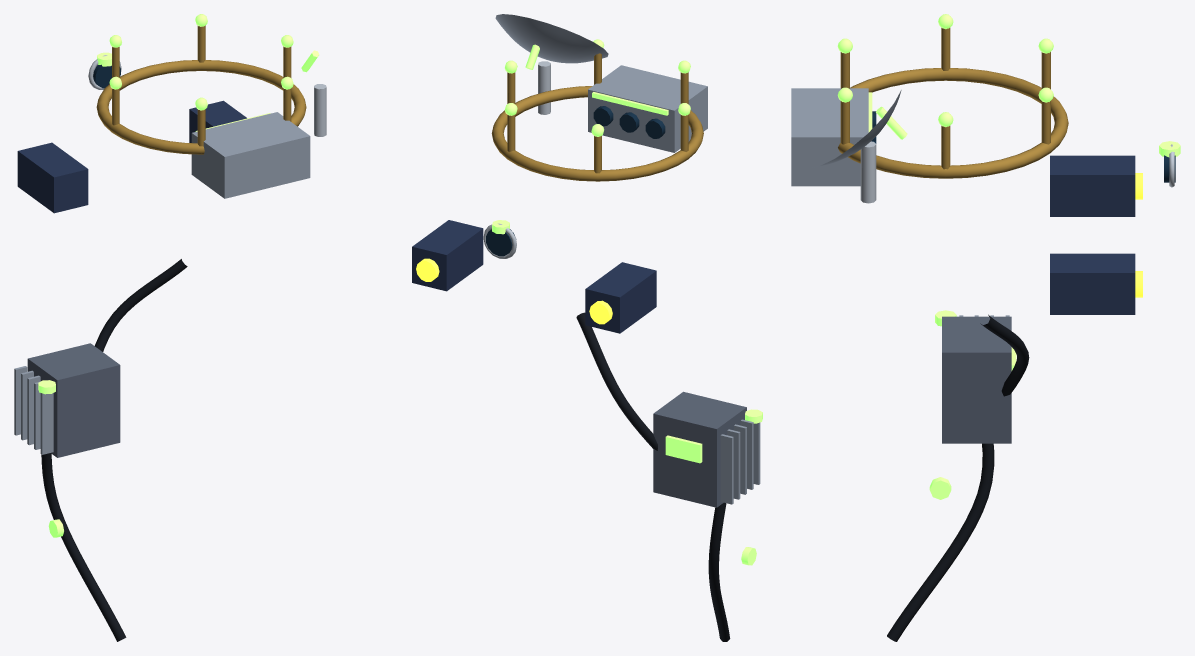
File: tower_detector_analysis_s10.glb
3 renders of one model, left to right at view 1: azimuth 30°, elevation 25°; view 2: azimuth 150°, elevation 25°; view 3: azimuth 270°, elevation 25°, orthographic. The views are drawn at different scales.
Visible parts, largest first — view 1: detector_cluster, detector_recorder, detector_crown_ring, detector_mark_projector_b, detector_recorder_fins, detector_harness_b, detector_harness_a, detector_mark_projector, detector_uplink_post; view 2: detector_recorder, detector_cluster, detector_crown_ring, detector_mark_projector, detector_mark_projector_b, detector_uplink_dish, detector_recorder_fins, detector_harness_a, detector_harness_b, detector_recorder_face, detector_uplink_post, detector_analysis_lens (+1 smaller); view 3: detector_recorder, detector_cluster, detector_crown_ring, detector_mark_projector, detector_mark_projector_b, detector_harness_b, detector_harness_a, detector_uplink_post, detector_uplink_dish.
Part boxes in pixels (x1,y1,x2,y2): detector_cluster: (191,112,310,198); detector_recorder: (27,343,120,457); detector_crown_ring: (96,60,306,154); detector_mark_projector_b: (17,142,88,213); detector_recorder_fins: (14,366,53,454); detector_harness_b: (41,453,126,641); detector_harness_a: (95,259,187,351); detector_mark_projector: (189,100,246,142); detector_uplink_post: (314,84,326,136); detector_recorder: (653,391,746,507); detector_cluster: (588,65,707,152); detector_crown_ring: (491,86,703,181); detector_mark_projector: (412,220,483,291); detector_mark_projector_b: (585,262,656,333); detector_uplink_dish: (495,14,608,63); detector_recorder_fins: (720,419,760,504); detector_harness_a: (576,312,657,450); detector_harness_b: (708,502,730,641); detector_recorder_face: (665,435,702,463); detector_uplink_post: (538,61,550,114); detector_analysis_lens: (486,229,516,256); detector_recorder: (942,316,1011,443); detector_cluster: (791,88,868,186); detector_crown_ring: (838,68,1068,178); detector_mark_projector: (1050,253,1135,314); detector_mark_projector_b: (1050,155,1135,216); detector_harness_b: (887,443,994,641); detector_harness_a: (980,314,1029,396); detector_uplink_post: (860,141,876,203); detector_uplink_dish: (819,90,901,166).
Bounding box in the file's own units: 1.05 × 1.92 × 1.01.
